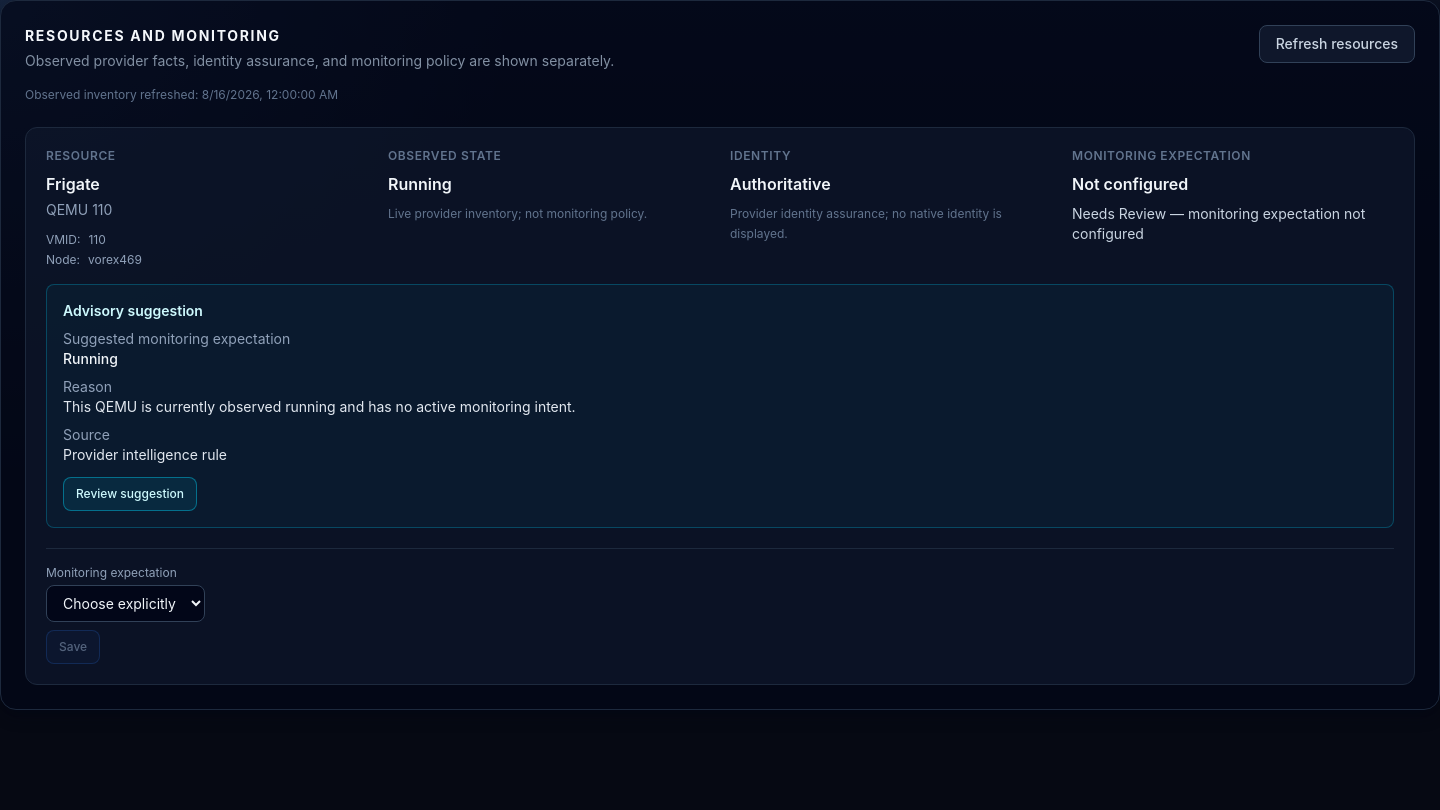
Scenario: ProviderResources Provider Intent flow › clears reviewed state when identity changes before Save
Expected: the heading "Frigate" is shown, [46, 174, 100, 194]
Expected: the dropdown labelled "Monitoring expectation" is shown, [46, 585, 205, 622]
Step 1. Click the button "Review suggestion" → [130, 494], box [63, 477, 197, 511]
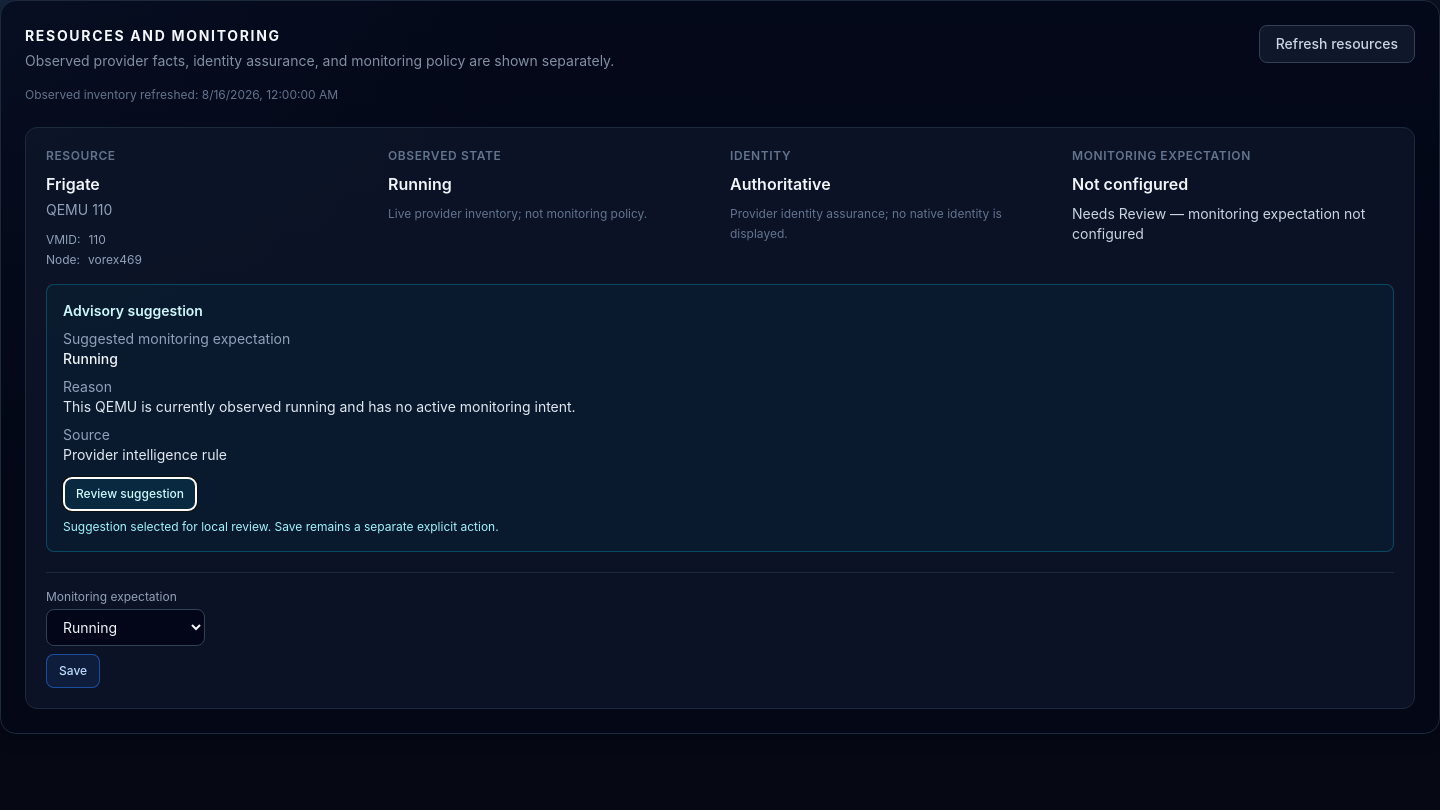
Expected: the dropdown labelled "Monitoring expectation" shows "Running", [46, 609, 205, 646]
Step 2. Click the button "Refresh resources" → [1337, 44], box [1259, 25, 1415, 63]
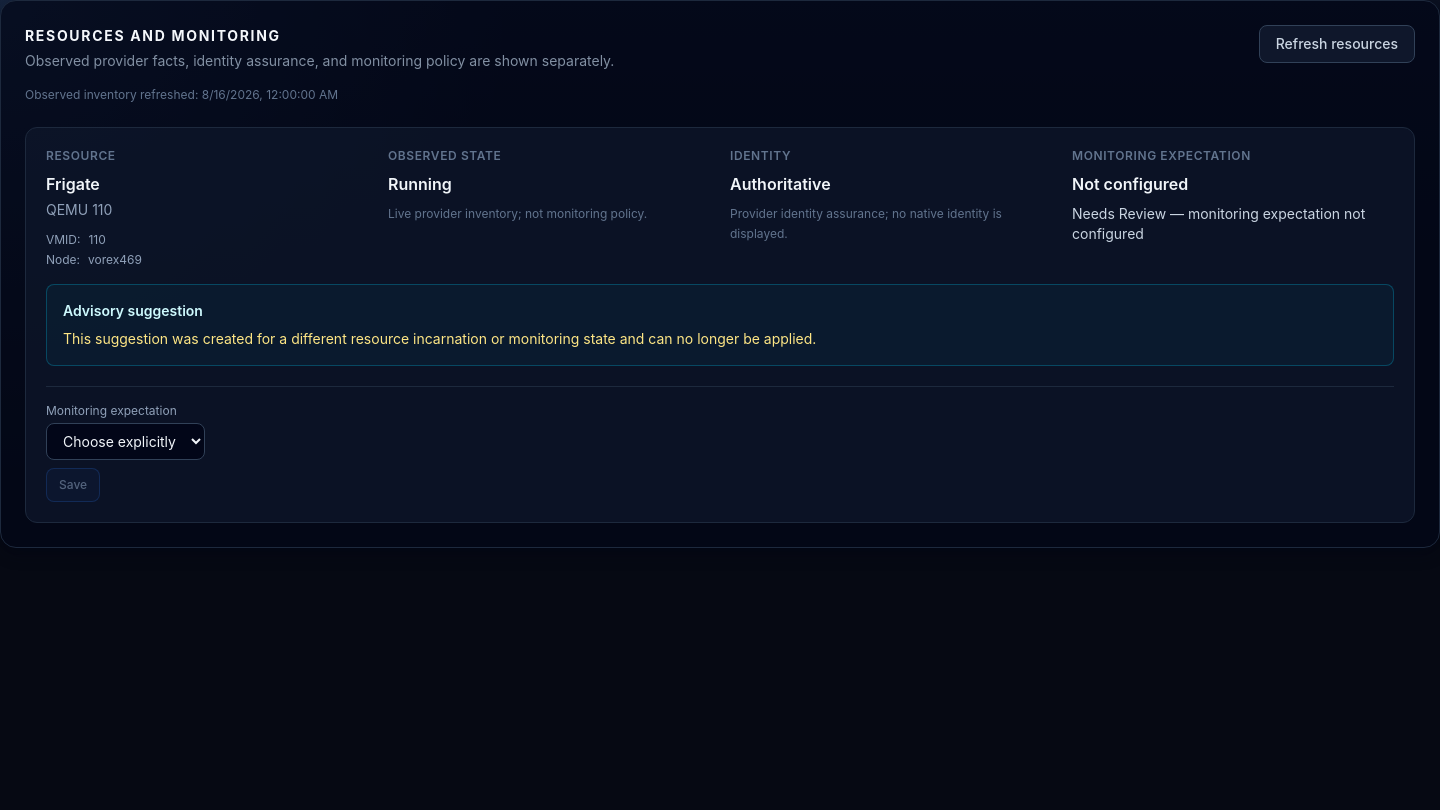
Expected: the text "different resource incarnation" is shown, [63, 330, 816, 347]
Expected: the dropdown labelled "Monitoring expectation" shows "Choose explicitly", [46, 423, 205, 460]
